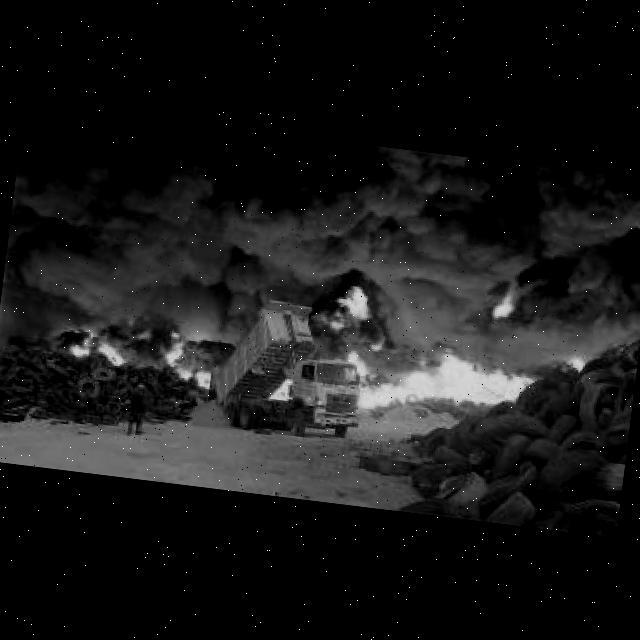Fire: (342, 342, 531, 430), (320, 275, 391, 344), (163, 330, 221, 390), (71, 325, 128, 373), (490, 291, 523, 322), (563, 351, 596, 380)
